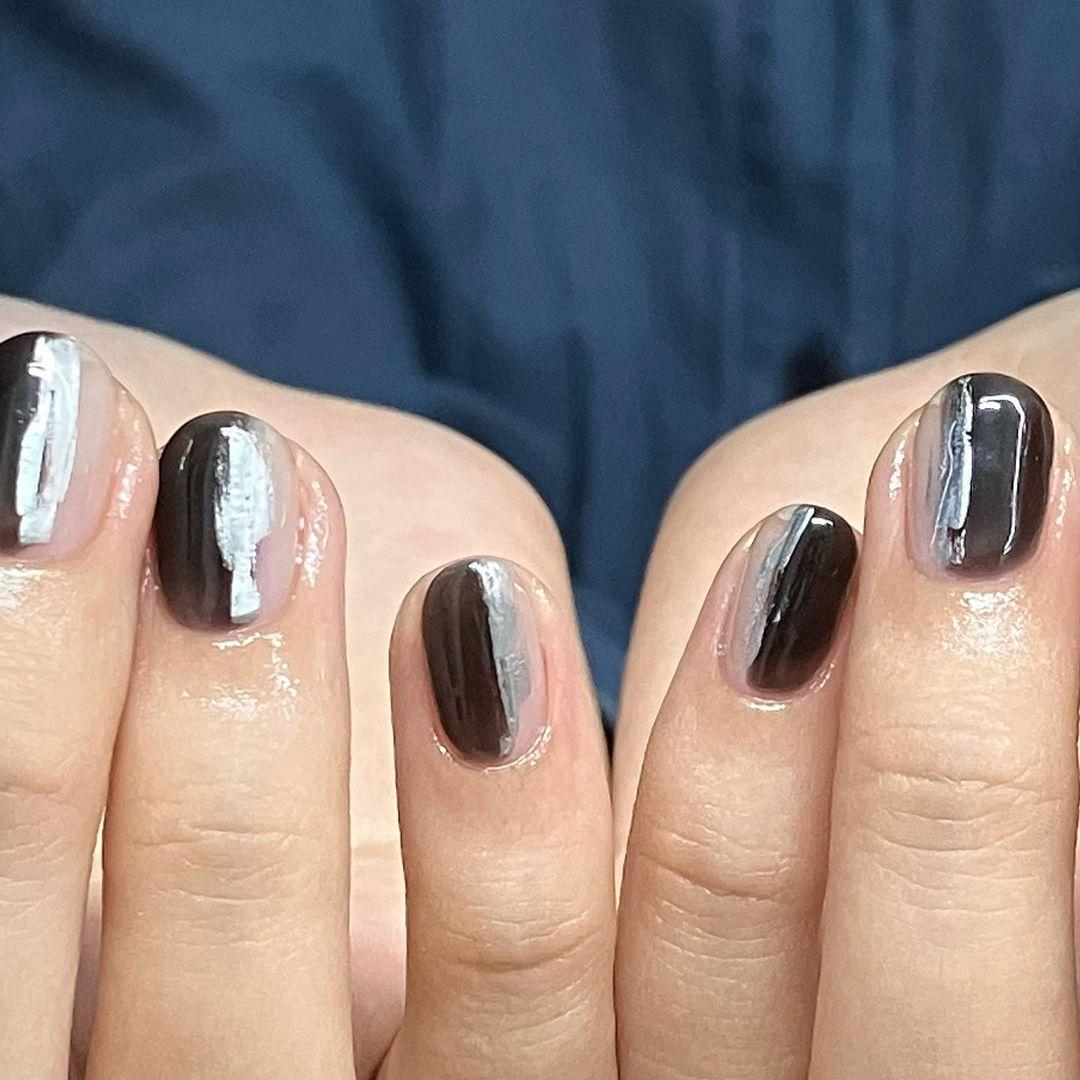nail: (152, 408, 295, 630), (903, 369, 1054, 578), (716, 501, 860, 705), (418, 554, 552, 769), (0, 328, 82, 547)
